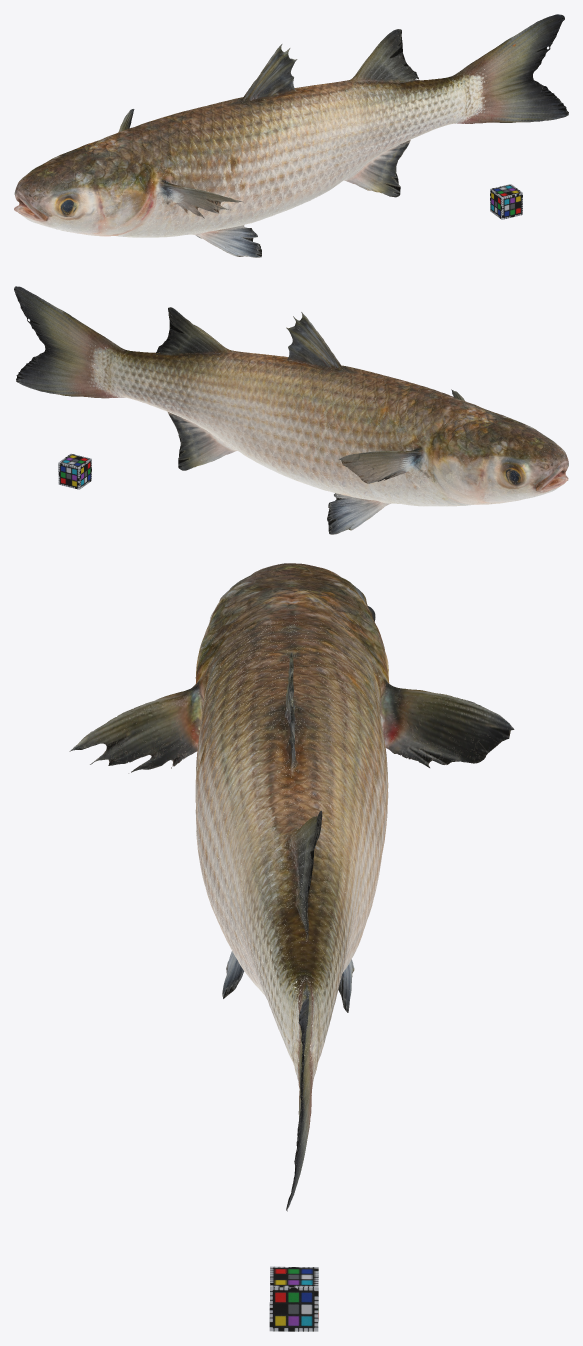
The model's file is bora.glb.
3 renders of one model, top to bottom at view 1: azimuth 30°, elevation 25°; view 2: azimuth 150°, elevation 25°; view 3: azimuth 270°, elevation 25°, orthographic. The views are drawn at different scales.
Parts seen in each view (by area): view 1: Q11216-1all_5, Cube_2; view 2: Q11216-1all_5, Cube_2; view 3: Q11216-1all_5, Cube_2.
Boxes of the visible parts, bbox=[...] form: Q11216-1all_5: bbox=[14, 14, 568, 257]; Cube_2: bbox=[490, 184, 522, 219]; Q11216-1all_5: bbox=[14, 286, 568, 534]; Cube_2: bbox=[58, 453, 91, 489]; Q11216-1all_5: bbox=[69, 563, 514, 1211]; Cube_2: bbox=[269, 1266, 318, 1331].
Bounding box in the file's own units: 12.31 × 4.8 × 4.31.
3 materials, 3 textured.
